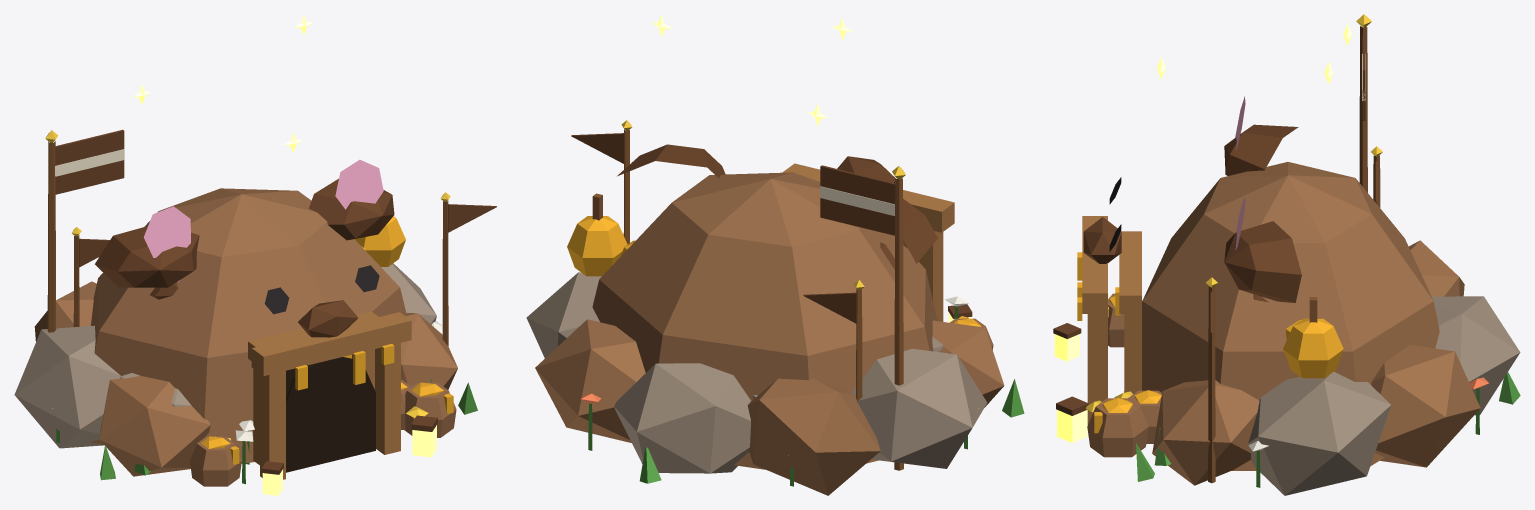
Rendered from bear-honey-cave.glb.
The picture shows the model from 3 angles, left to right: view 1: azimuth 30°, elevation 25°; view 2: azimuth 150°, elevation 25°; view 3: azimuth 270°, elevation 25°; orthographic projection. The views are drawn at different scales.
Visible parts, largest first — view 1: lv3, lv2; view 2: lv3, lv2; view 3: lv3, lv2.
Boxes of the visible parts, bbox=[...] form: lv3: bbox=[14, 14, 496, 495]; lv2: bbox=[71, 227, 432, 475]; lv3: bbox=[526, 14, 1024, 495]; lv2: bbox=[620, 240, 989, 402]; lv3: bbox=[1053, 14, 1520, 495]; lv2: bbox=[1114, 146, 1382, 465].
Bounding box in the file's own units: 2.08 × 1.72 × 1.84.
